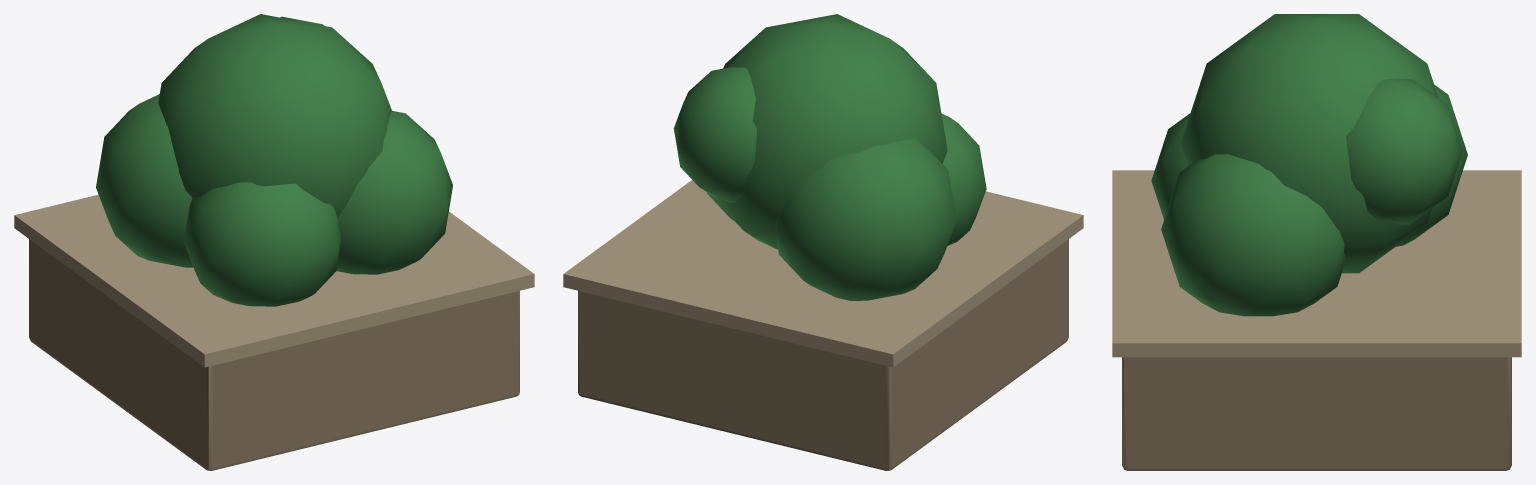
File: planter.glb
3 views of the same model, side by side, from view 1: azimuth 30°, elevation 25°; view 2: azimuth 150°, elevation 25°; view 3: azimuth 270°, elevation 25° (orthographic). The views are drawn at different scales.
Visible parts, largest first — view 1: part-leaves, part-planter, part-planter-rim; view 2: part-leaves, part-planter, part-planter-rim; view 3: part-leaves, part-planter, part-planter-rim.
Boxes of the visible parts, x1,y1,x2,y2 form: part-leaves: (96,14,452,306); part-planter: (29,239,519,470); part-planter-rim: (14,194,534,367); part-leaves: (673,14,986,300); part-planter: (578,239,1068,470); part-planter-rim: (563,180,1083,367); part-leaves: (1151,14,1467,316); part-planter: (1122,357,1511,470); part-planter-rim: (1112,170,1521,357).
Size of the model in its own units: 42 by 42 by 42.
